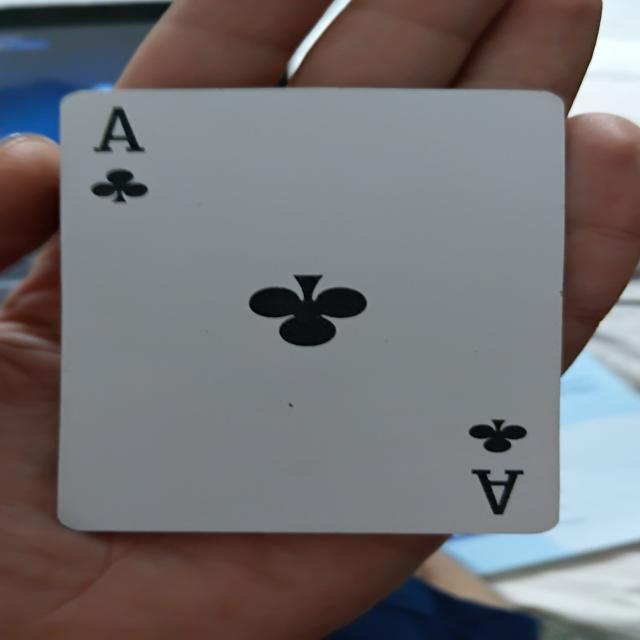AC: (61, 90, 563, 530)
